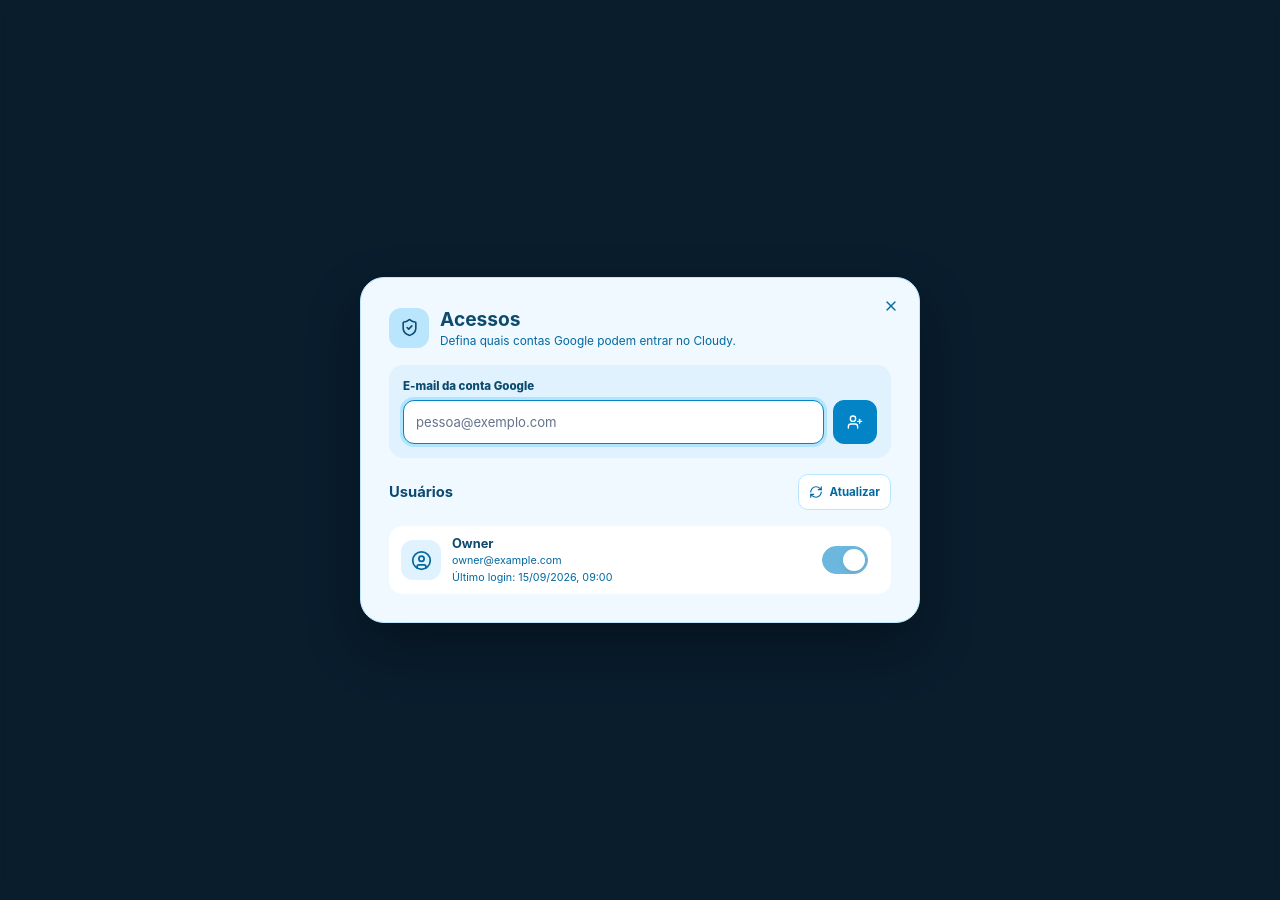
Test case: AccessAdminDialog › normaliza e libera um novo acesso
Expected: the switch named "Acesso do proprietário protegido" is shown, x1=822 y1=538 x2=868 y2=582
In the field labelled "E-mail da conta Google": (614,422) x1=403 y1=400 x2=824 y2=444, type " Member@Example.COM "
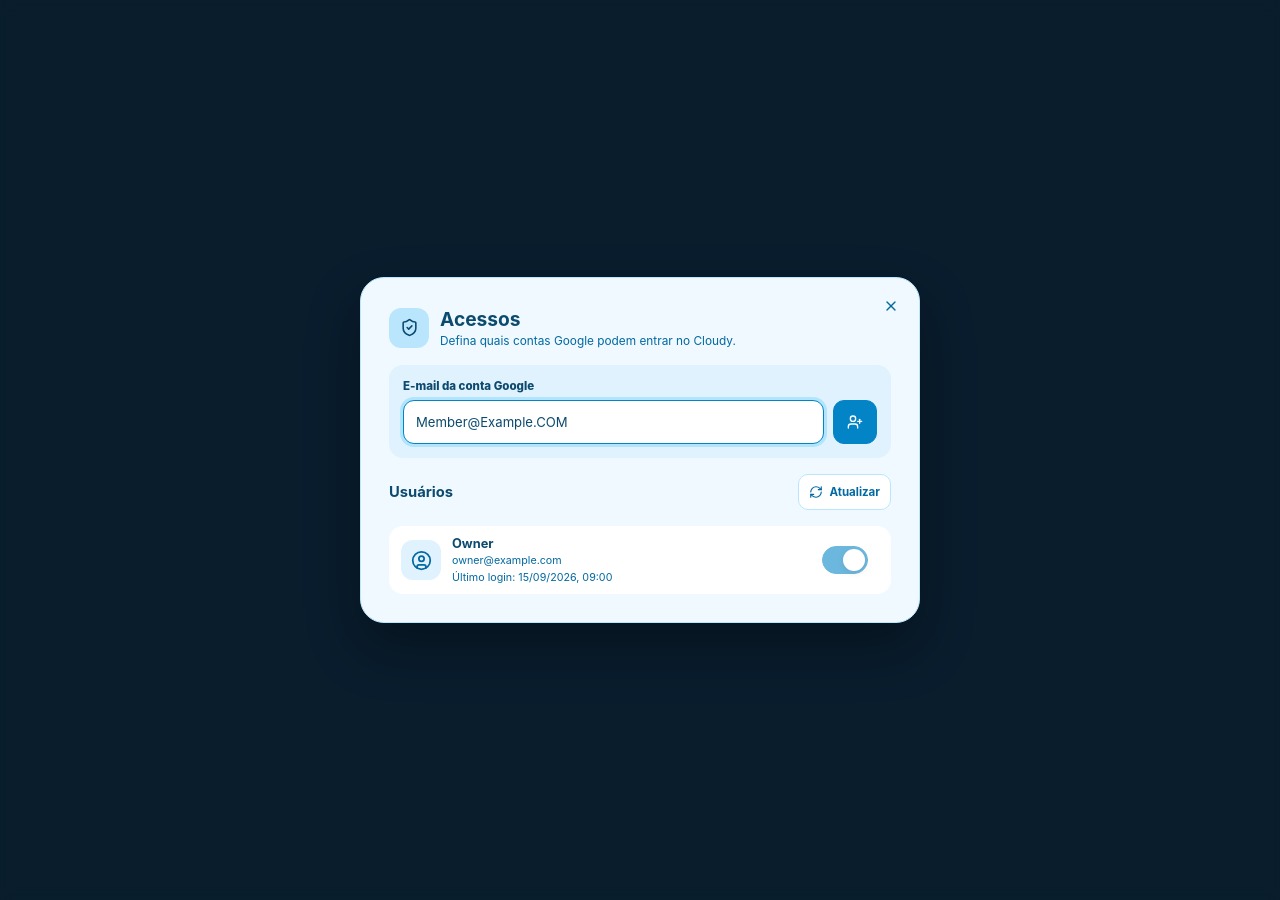
Click the button named "Liberar acesso": (855,422) x1=833 y1=400 x2=877 y2=444
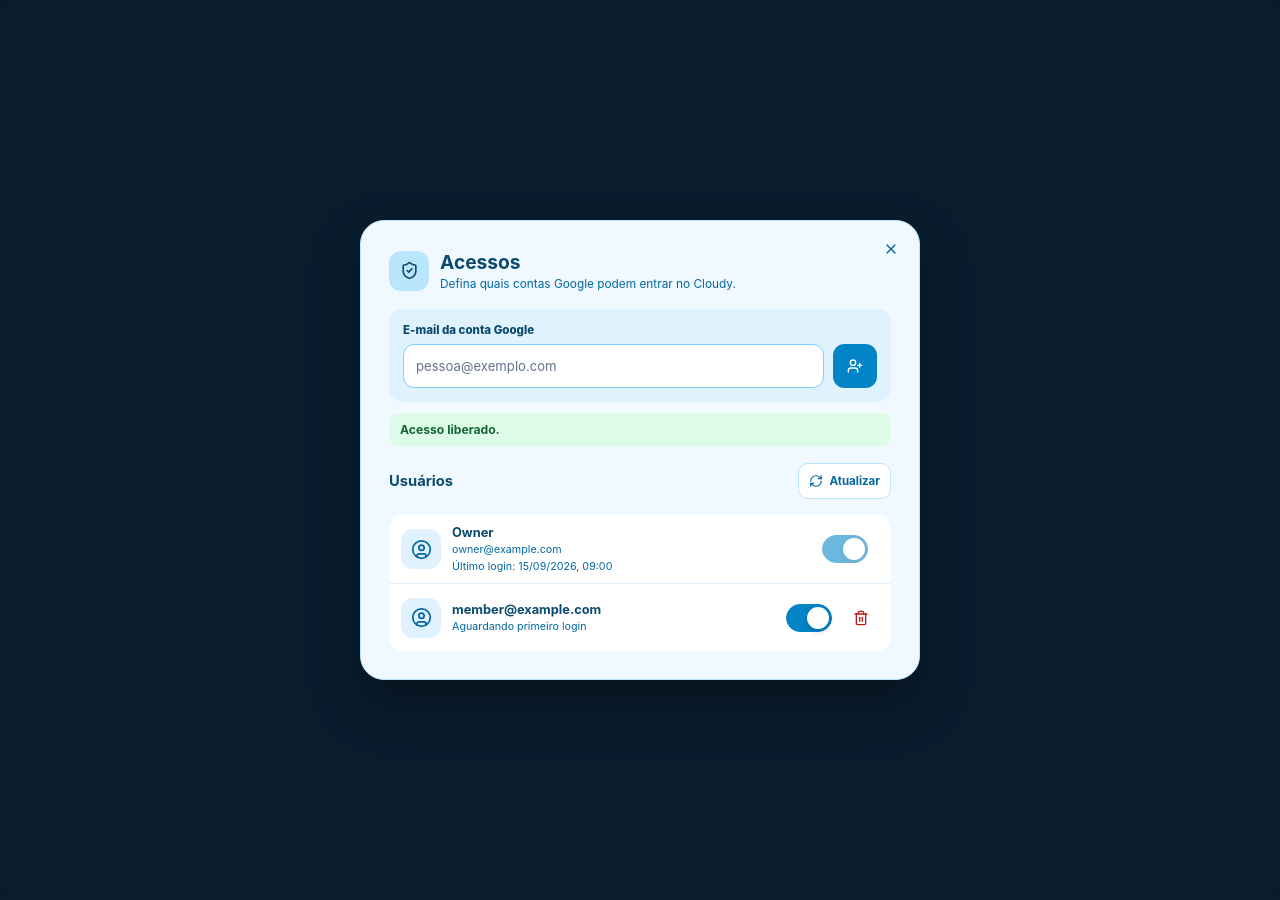
Expected: the text "Acesso liberado." is shown, x1=389 y1=413 x2=891 y2=447
Expected: the switch named "Desativar acesso de member@example.com" is shown, x1=786 y1=596 x2=832 y2=640
